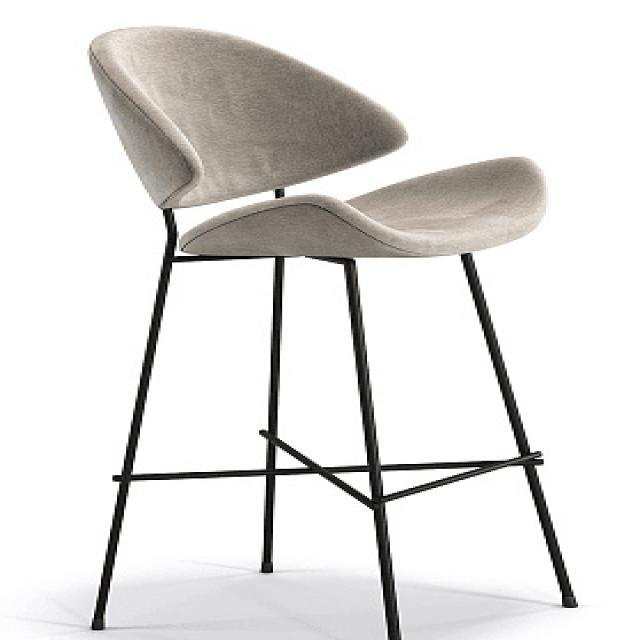chair: (75, 20, 590, 640), (85, 25, 548, 258)
